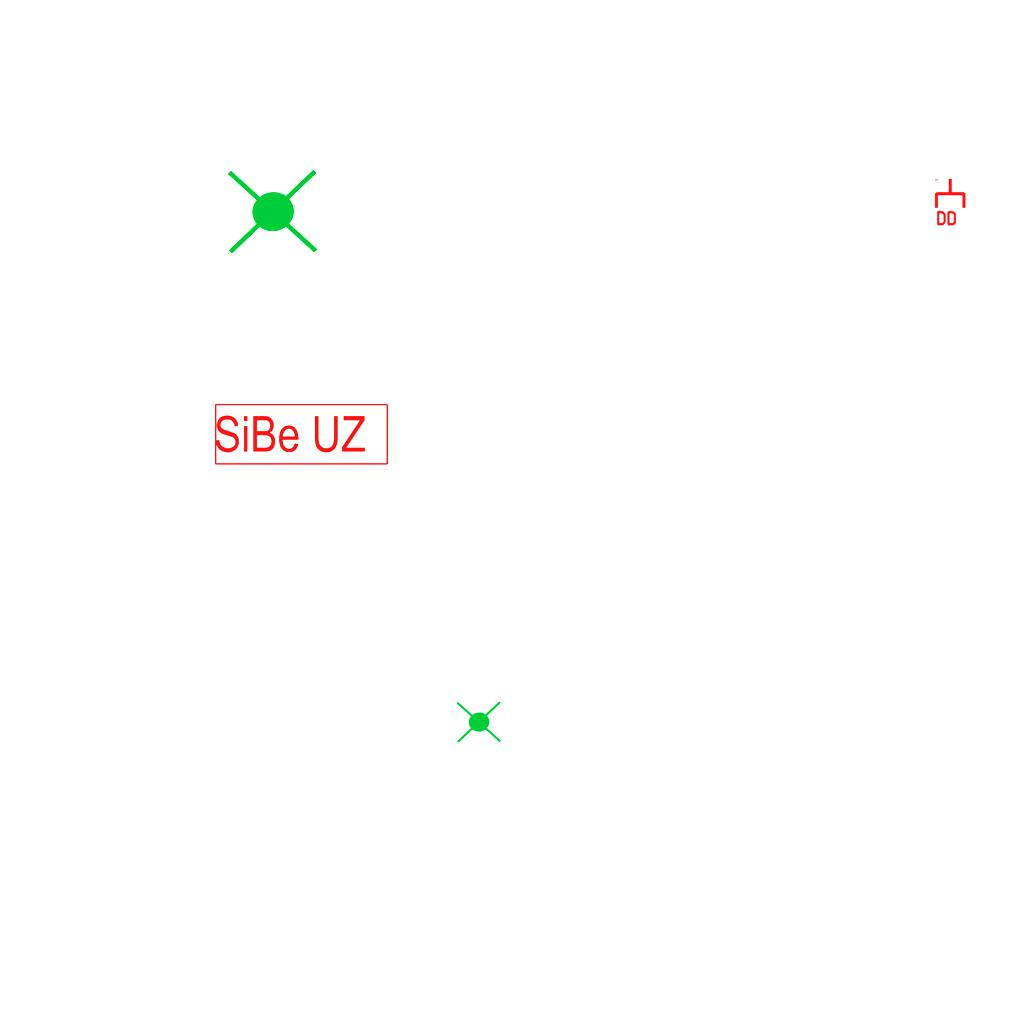Datenanschluss_zweifach: (934, 177, 968, 228)
Notlichtbaustein_in_Allgemeinbeleuchtug_engebaut_Einbau_(1UG_und_2UG_Aufbauvaria: (223, 159, 323, 262), (454, 696, 504, 747)
Zentrale_Sicherheitsbeleuchtung: (213, 402, 391, 467)
